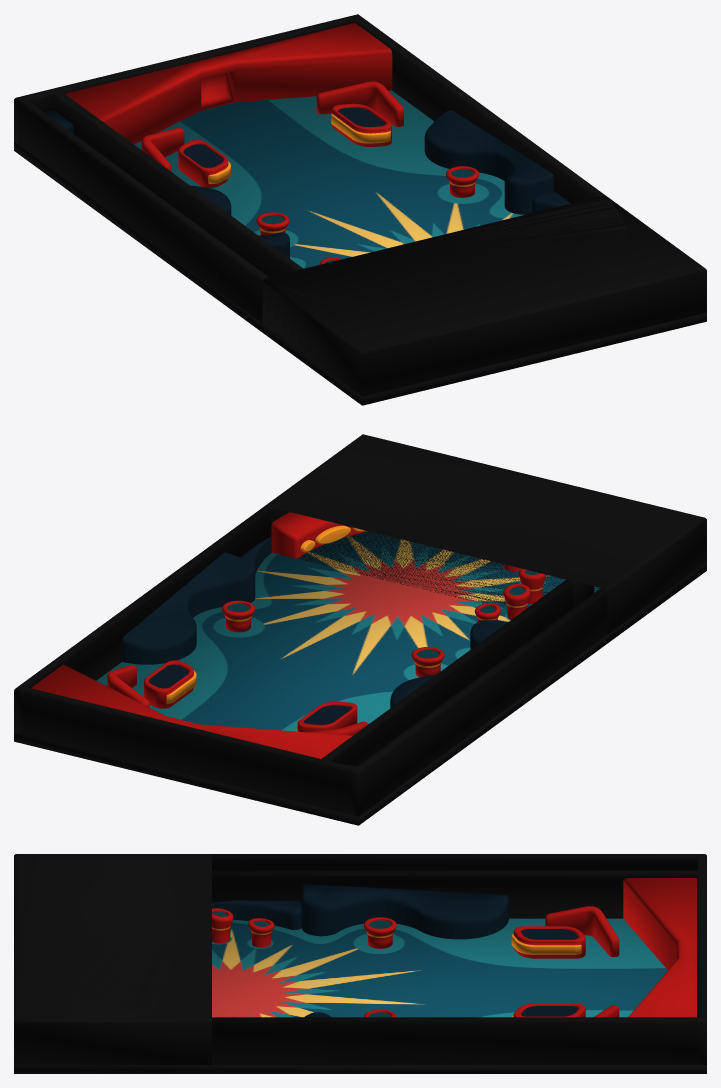
Rendered from pinballV3.obj.
The picture shows the model from 3 angles, top to bottom: view 1: azimuth 30°, elevation 25°; view 2: azimuth 150°, elevation 25°; view 3: azimuth 270°, elevation 25°; orthographic projection.
Visible parts, largest first — view 1: TableTop.004_Cube.080, TableFloor.003_Cube.078, TableWalls.005_Cube.079, TableBottom.008_Cube.081, SCurveRight.003_Cylinder.034, PaddleGuard_Right.008_Cube.084, PaddleRail_Right.003_Cube.082, Side_Bumpers.004_Cylinder.027; view 2: TableFloor.003_Cube.078, TableWalls.005_Cube.079, TableTop.004_Cube.080, SCurveRight.003_Cylinder.034, TableBottom.008_Cube.081, PaddleGuard_Right.008_Cube.084, UpperLeftBumpers.006_Cube.093, UpperRightBumpers.004_Cylinder.033, Side_Bumpers.004_Cylinder.027, PaddleRail_Right.003_Cube.082; view 3: TableWalls.005_Cube.079, TableTop.004_Cube.080, TableFloor.003_Cube.078, SCurveRight.003_Cylinder.034, TableBottom.008_Cube.081, PaddleGuard_Right.008_Cube.084, PaddleRail_Right.003_Cube.082, GuideLeft_Backup.003_Cube.085, UpperRightBumpers.004_Cylinder.033, Side_Bumpers.004_Cylinder.027.
Part boxes in pixels (bbox=[...]): TableTop.004_Cube.080: bbox=[262, 195, 706, 396]; TableFloor.003_Cube.078: bbox=[14, 90, 706, 405]; TableWalls.005_Cube.079: bbox=[14, 14, 605, 323]; TableBottom.008_Cube.081: bbox=[65, 23, 392, 144]; SCurveRight.003_Cylinder.034: bbox=[190, 110, 553, 258]; PaddleGuard_Right.008_Cube.084: bbox=[178, 103, 391, 188]; PaddleRail_Right.003_Cube.082: bbox=[141, 81, 403, 171]; Side_Bumpers.004_Cylinder.027: bbox=[256, 166, 479, 235]; TableFloor.003_Cube.078: bbox=[14, 531, 706, 825]; TableWalls.005_Cube.079: bbox=[14, 506, 607, 816]; TableTop.004_Cube.080: bbox=[264, 434, 706, 634]; SCurveRight.003_Cylinder.034: bbox=[122, 552, 507, 707]; TableBottom.008_Cube.081: bbox=[31, 664, 352, 758]; PaddleGuard_Right.008_Cube.084: bbox=[144, 660, 357, 732]; UpperLeftBumpers.006_Cube.093: bbox=[271, 512, 368, 558]; UpperRightBumpers.004_Cylinder.033: bbox=[474, 564, 545, 621]; Side_Bumpers.004_Cylinder.027: bbox=[222, 600, 444, 677]; PaddleRail_Right.003_Cube.082: bbox=[107, 665, 368, 735]; TableWalls.005_Cube.079: bbox=[212, 854, 706, 1064]; TableTop.004_Cube.080: bbox=[14, 854, 211, 1064]; TableFloor.003_Cube.078: bbox=[14, 918, 706, 1073]; SCurveRight.003_Cylinder.034: bbox=[301, 884, 508, 1017]; TableBottom.008_Cube.081: bbox=[623, 878, 696, 1017]; PaddleGuard_Right.008_Cube.084: bbox=[511, 926, 585, 1017]; PaddleRail_Right.003_Cube.082: bbox=[545, 906, 619, 1017]; GuideLeft_Backup.003_Cube.085: bbox=[212, 900, 301, 929]; UpperRightBumpers.004_Cylinder.033: bbox=[212, 908, 274, 947]; Side_Bumpers.004_Cylinder.027: bbox=[363, 917, 396, 1017].
Size of the model in its own units: 20 by 3 by 35.
Materials: 6 (1 with a texture image).
